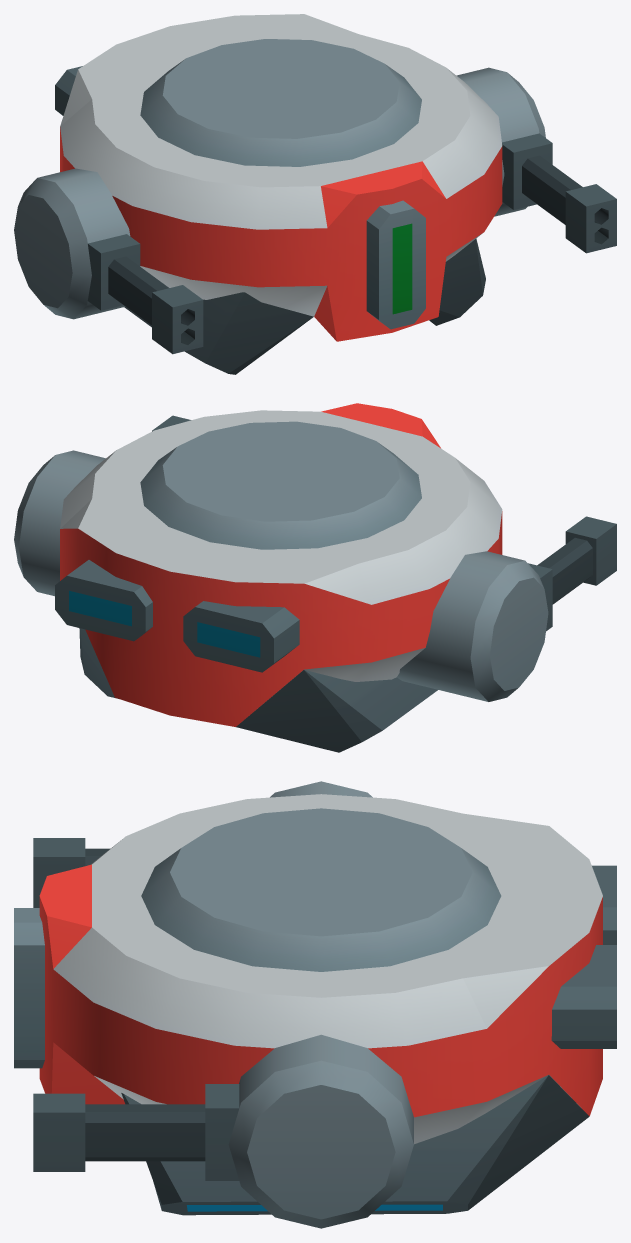
File: Drone_008.fbx
3 renders of one model, top to bottom at view 1: azimuth 30°, elevation 25°; view 2: azimuth 150°, elevation 25°; view 3: azimuth 270°, elevation 25°, orthographic. The views are drawn at different scales.
Parts seen in each view (by area): view 1: Drone_008; view 2: Drone_008; view 3: Drone_008.
Boxes of the visible parts, left/top/right/bottom form: Drone_008: left=14, top=14, right=616, bottom=374; Drone_008: left=14, top=403, right=616, bottom=752; Drone_008: left=14, top=781, right=616, bottom=1228.
Bounding box in the file's own units: 63.83 × 55.27 × 28.4.
